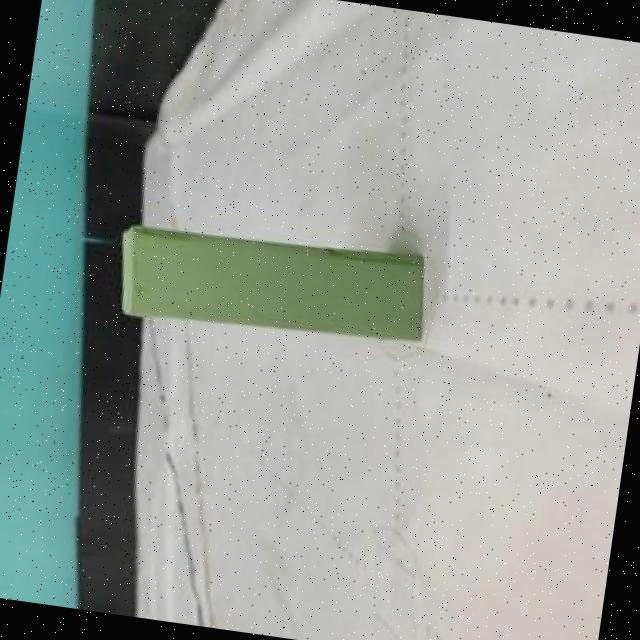greenbox: (108, 212, 438, 356)
